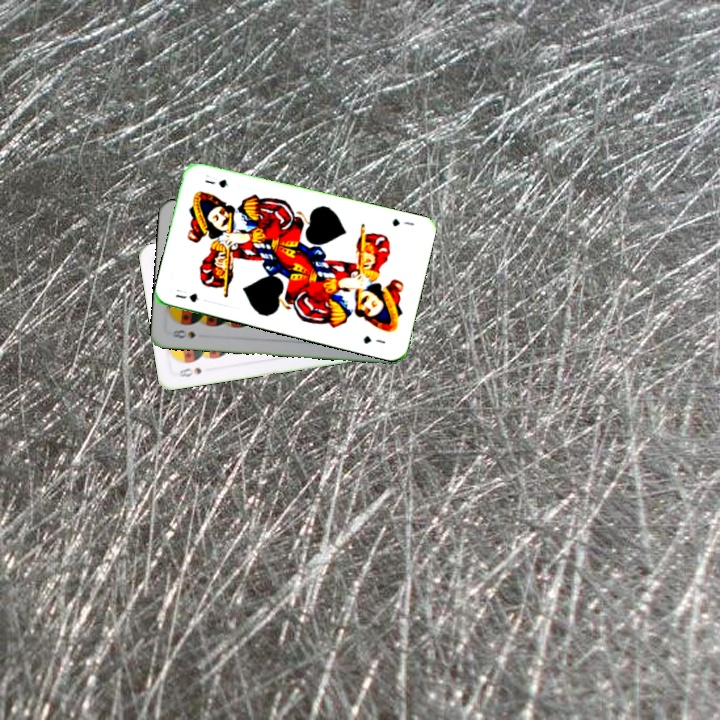GU: (172, 285, 201, 305), (388, 214, 417, 229)
S8: (174, 363, 204, 380), (165, 326, 198, 341)
